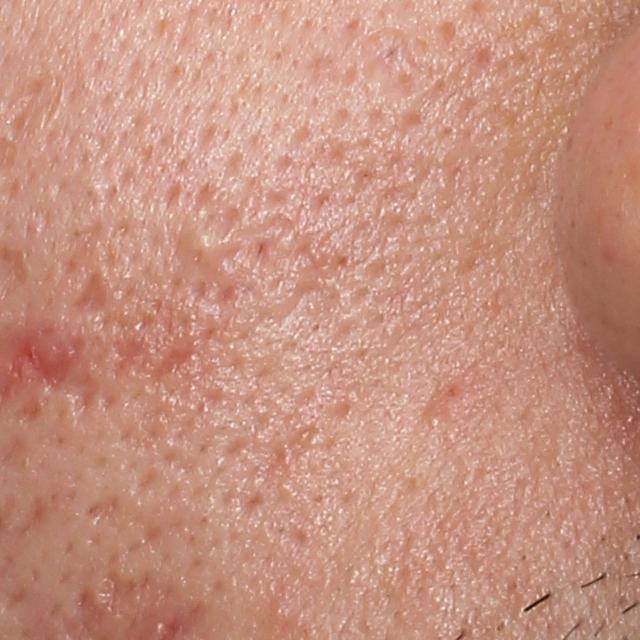atrophic_scar: (0, 71, 67, 141), (145, 341, 213, 391), (67, 267, 113, 316), (111, 332, 152, 380), (83, 491, 128, 523)
hypertrophic_scar: (170, 217, 241, 271)
